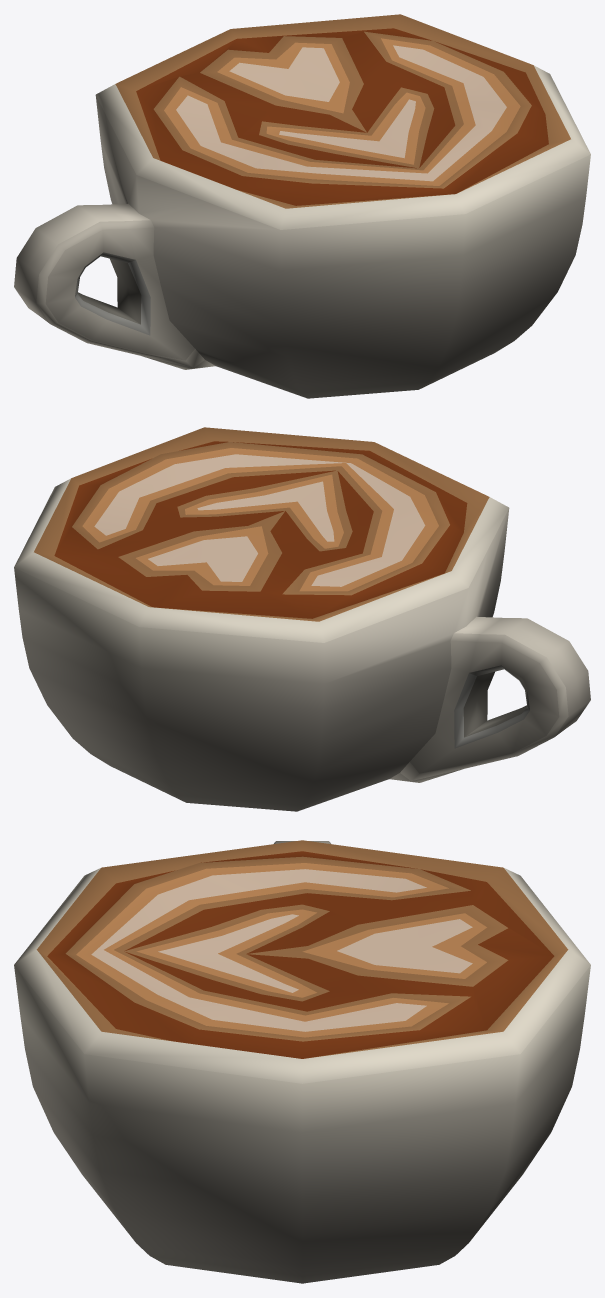
Rendered from cappuccino.fbx.
3 renders of one model, top to bottom at view 1: azimuth 30°, elevation 25°; view 2: azimuth 150°, elevation 25°; view 3: azimuth 270°, elevation 25°, orthographic. The views are drawn at different scales.
Parts seen in each view (by area): view 1: Cappuccino; view 2: Cappuccino; view 3: Cappuccino.
Boxes of the visible parts, x1,y1,x2,y2 form: Cappuccino: [14, 14, 590, 398]; Cappuccino: [14, 427, 590, 811]; Cappuccino: [14, 840, 590, 1283].
Bounding box in the file's own units: 22.3 × 10.26 × 18.01.
